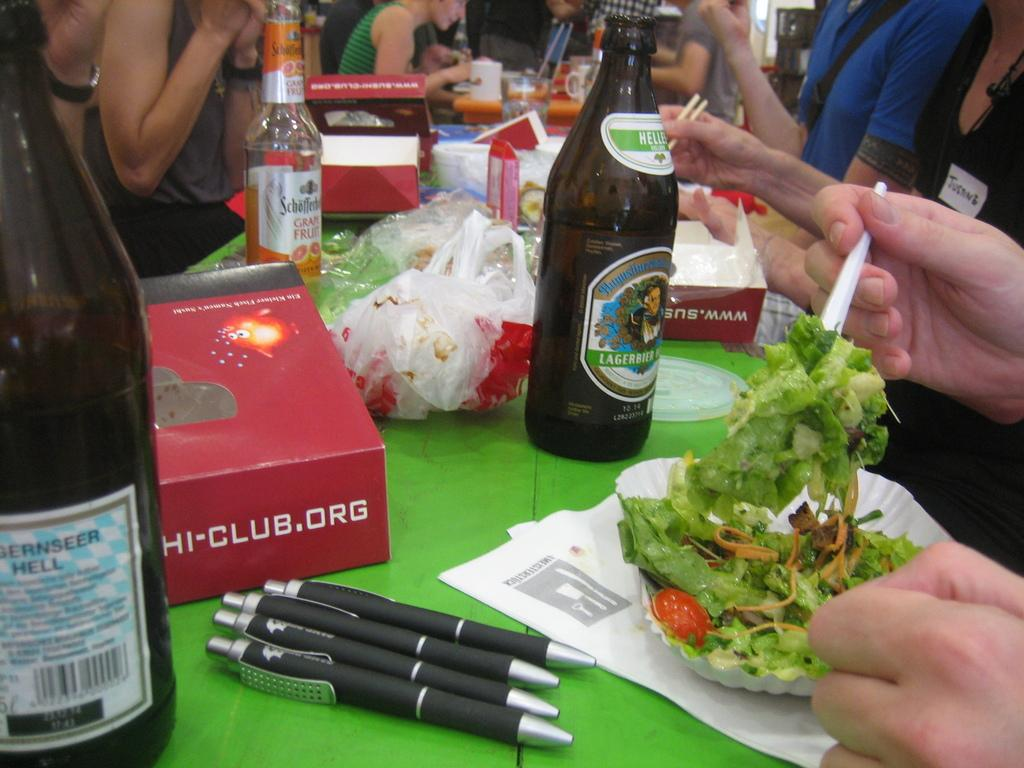pen: (205, 569, 588, 756)
